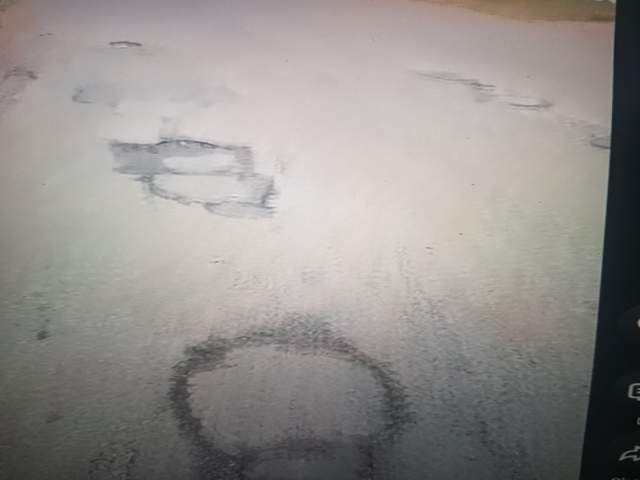pothole: (107, 404, 319, 480)
